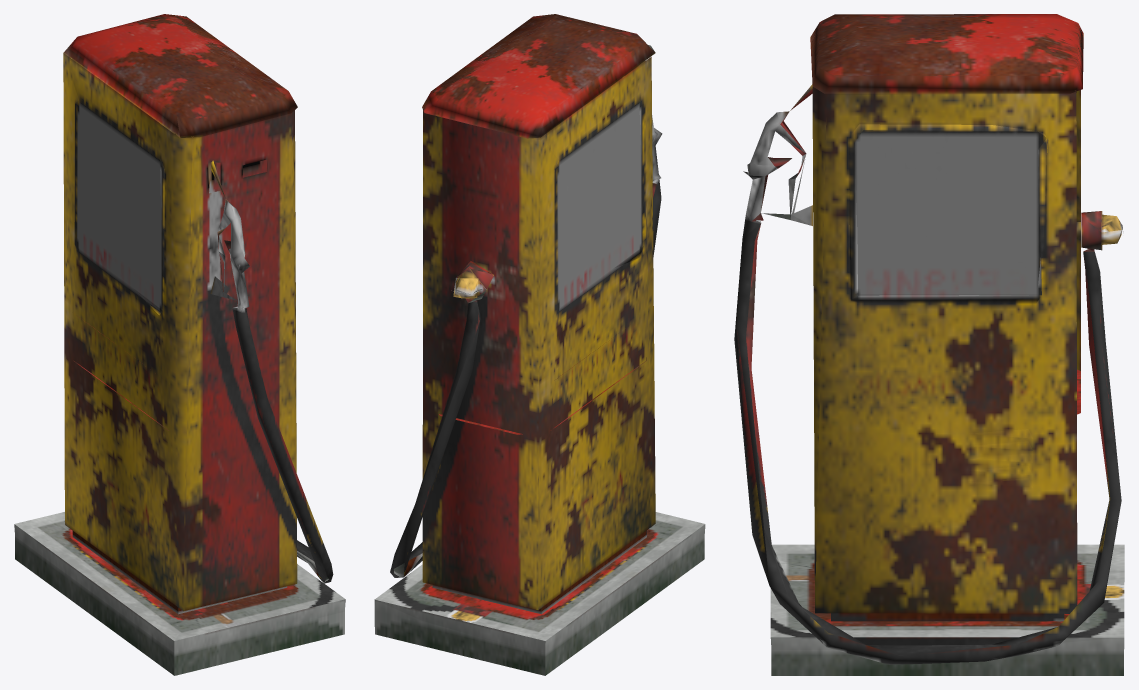
3 renders of one model, left to right at view 1: azimuth 30°, elevation 25°; view 2: azimuth 150°, elevation 25°; view 3: azimuth 270°, elevation 25°, orthographic. The views are drawn at different scales.
Size of the model in its own units: 0.7569 by 1.95 by 1.15.
Materials: 1 (1 with a texture image).
